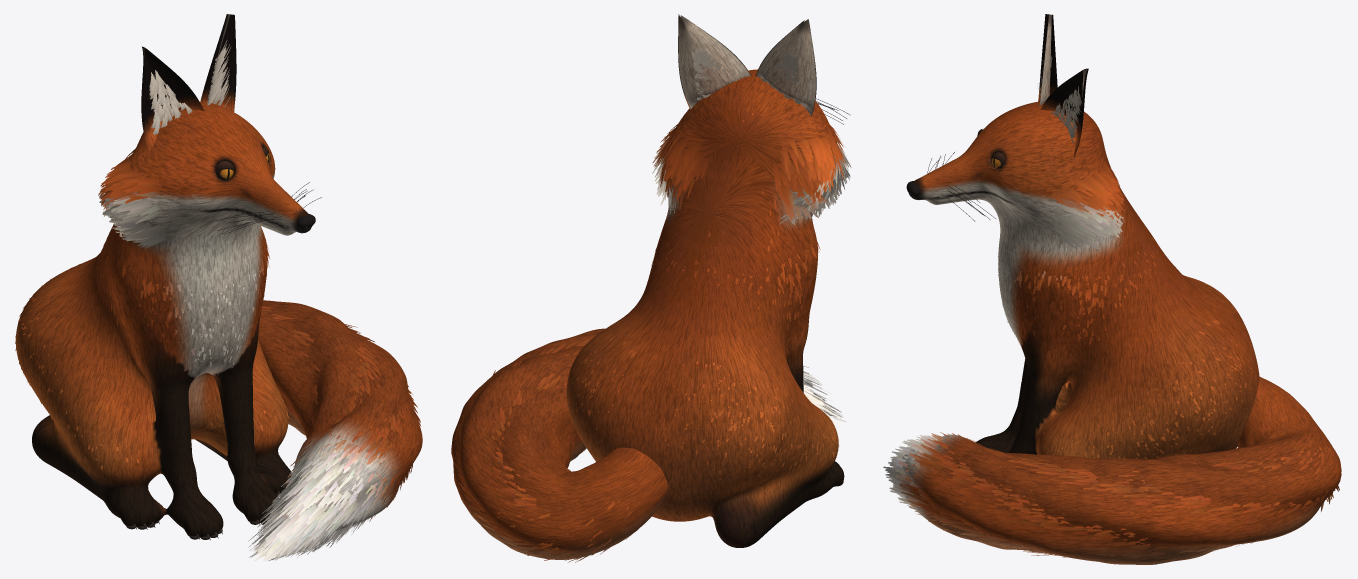
Rendered from red-fox.glb.
3 views of the same model, side by side, from view 1: azimuth 30°, elevation 25°; view 2: azimuth 150°, elevation 25°; view 3: azimuth 270°, elevation 25° (orthographic). The views are drawn at different scales.
Visible parts, largest first — view 1: red-fox.body, red-fox.tail, red-fox.tail_fur, red-fox.fur_cards, red-fox.ear_right, red-fox.ear_left; view 2: red-fox.body, red-fox.tail, red-fox.fur_cards, red-fox.tail_fur, red-fox.ear_left, red-fox.ear_right; view 3: red-fox.body, red-fox.tail, red-fox.tail_fur, red-fox.fur_cards, red-fox.ear_left, red-fox.ear_right.
Boxes of the visible parts, bbox=[...] form: red-fox.body: bbox=[15, 101, 311, 537]; red-fox.tail: bbox=[258, 300, 422, 531]; red-fox.tail_fur: bbox=[248, 304, 420, 561]; red-fox.fur_cards: bbox=[15, 40, 289, 469]; red-fox.ear_right: bbox=[141, 46, 204, 152]; red-fox.ear_left: bbox=[200, 14, 236, 111]; red-fox.body: bbox=[566, 69, 844, 547]; red-fox.tail: bbox=[451, 328, 668, 559]; red-fox.fur_cards: bbox=[566, 48, 851, 482]; red-fox.tail_fur: bbox=[454, 335, 846, 562]; red-fox.ear_left: bbox=[678, 14, 751, 109]; red-fox.ear_right: bbox=[755, 19, 816, 116]; red-fox.body: bbox=[908, 101, 1259, 459]; red-fox.tail: bbox=[901, 377, 1341, 564]; red-fox.tail_fur: bbox=[883, 432, 1341, 557]; red-fox.fur_cards: bbox=[998, 44, 1251, 459]; red-fox.ear_left: bbox=[1040, 68, 1088, 157]; red-fox.ear_right: bbox=[1038, 14, 1057, 106].
Size of the model in its own units: 0.2987 by 0.4016 by 0.3855.
Materials: 7 (3 with a texture image).
